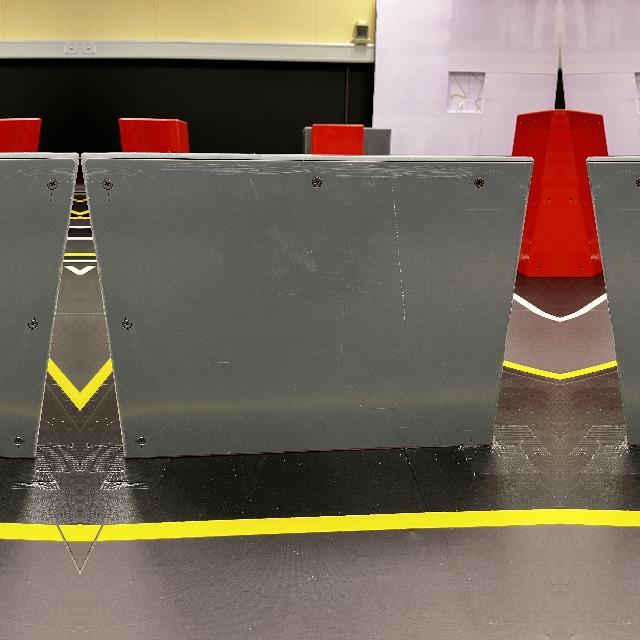obstacle: (82, 146, 538, 460), (0, 146, 78, 459), (582, 146, 640, 459)
